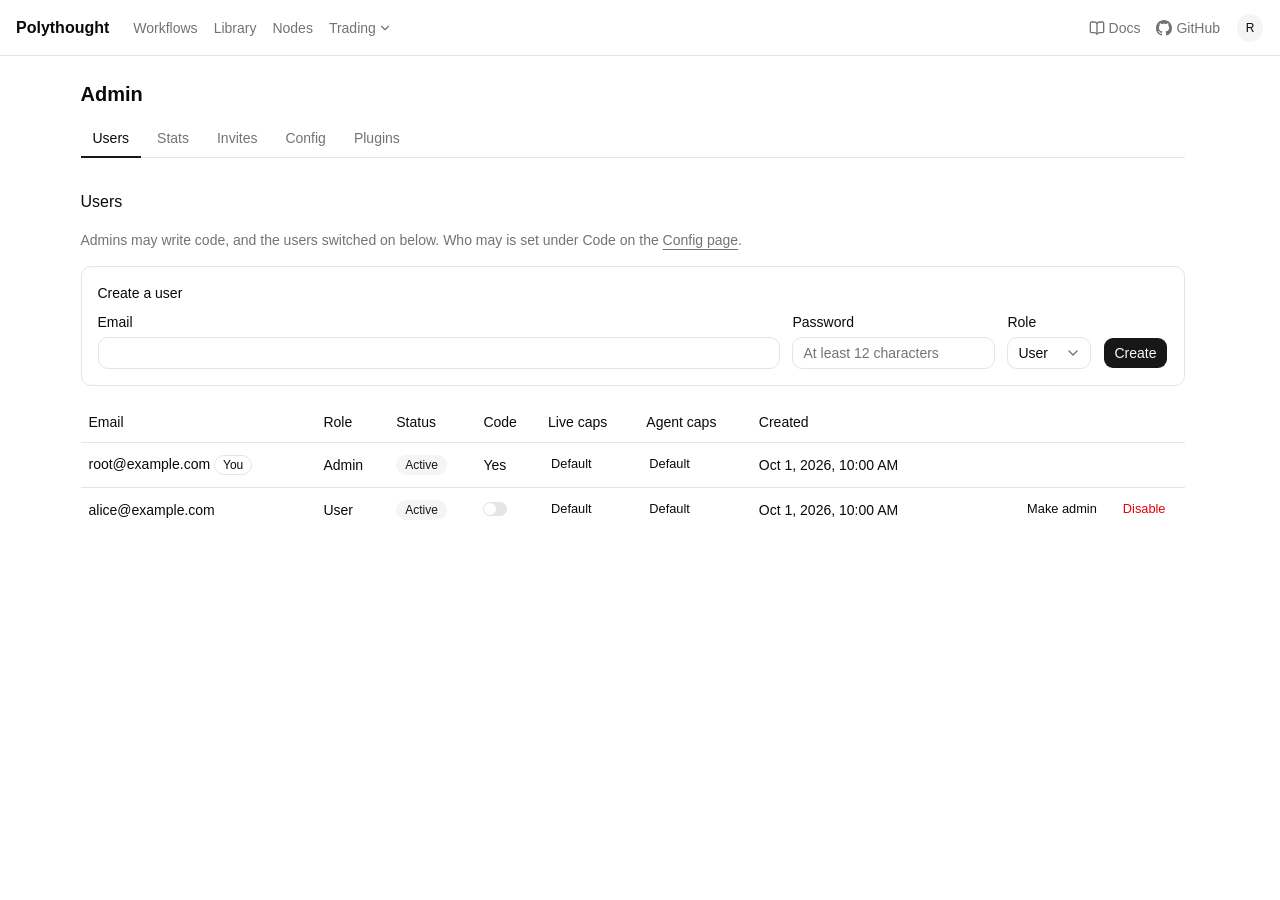
it: admin page › picks the users who may write code, while code is for chosen users
This screenshot has width=1280, height=900.
Expected: the text "Admins may write code, and the users switched on below." is shown, [80,232,439,248]
Expected: the text "alice@example.com" is shown, [80,487,316,532]
Click the switch named "alice@example.com may write code". click: (495, 508)
box: [483,502,507,516]
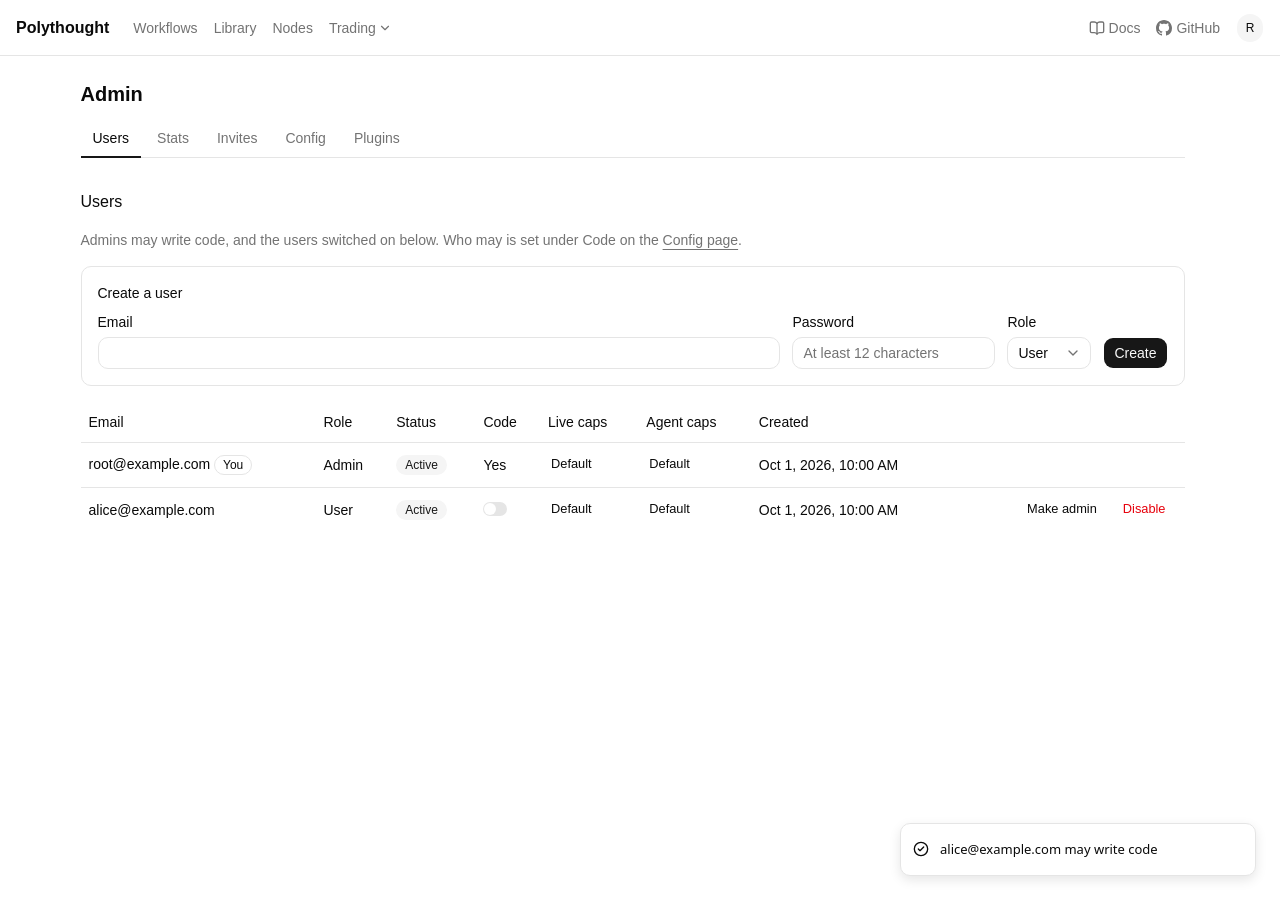
Now the text "alice@example.com may write code" is shown, box [940,840,1158,859]
